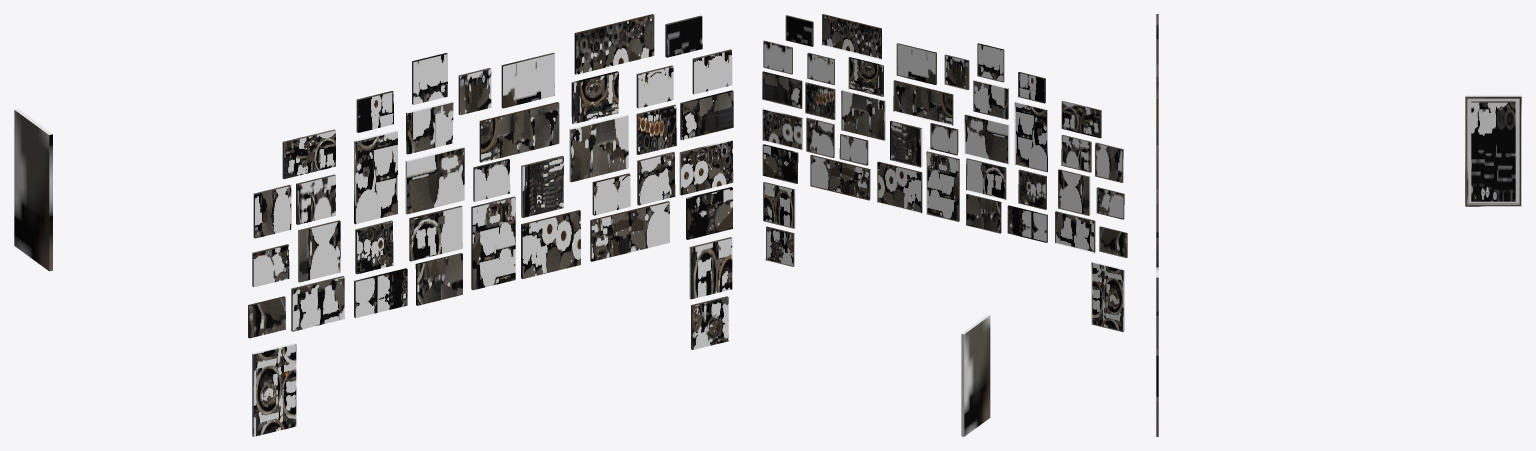
File: hotelhamilton_0.obj
3 renders of one model, left to right at view 1: azimuth 30°, elevation 25°; view 2: azimuth 150°, elevation 25°; view 3: azimuth 270°, elevation 25°, orthographic. The views are drawn at different scales.
Size of the model in its own units: 5.78 by 3.99 by 4.6.
